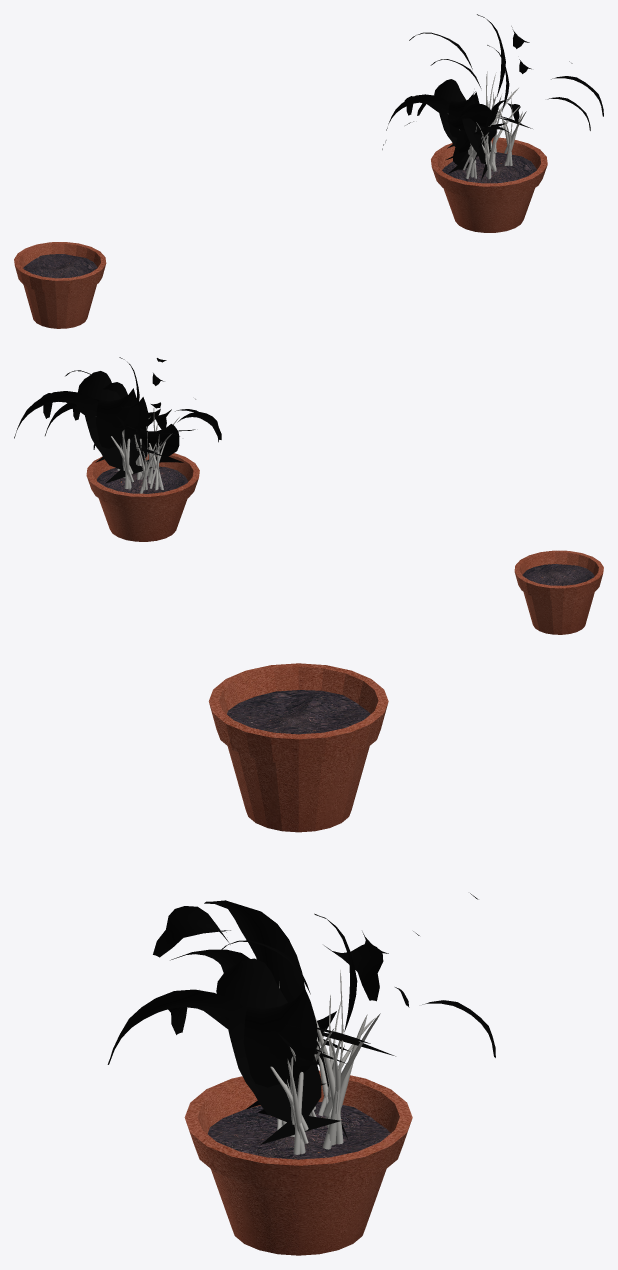
Rendered from pottedplants.fbx.
3 views of the same model, one above another, from view 1: azimuth 30°, elevation 25°; view 2: azimuth 150°, elevation 25°; view 3: azimuth 270°, elevation 25° (orthographic). The views are drawn at different scales.
Visible parts, largest first — view 1: pCylinder5, strokeJadeMedium2; view 2: pCylinder5, strokeJadeMedium2; view 3: pCylinder5, strokeJadeMedium2.
Part boxes in pixels (bbox=[...]): pCylinder5: bbox=[382, 14, 603, 232]; strokeJadeMedium2: bbox=[14, 242, 106, 328]; pCylinder5: bbox=[14, 357, 221, 541]; strokeJadeMedium2: bbox=[514, 550, 603, 634]; pCylinder5: bbox=[107, 893, 495, 1255]; strokeJadeMedium2: bbox=[208, 663, 388, 832].
Bounding box in the file's own units: 105 × 30.45 × 32.67.
Materials: 4 (2 with a texture image).
